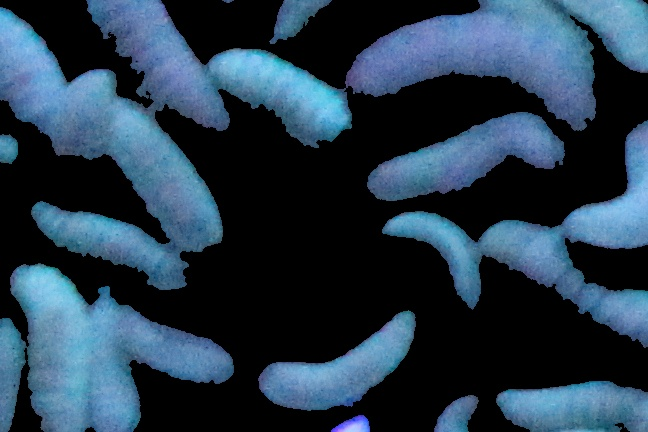dog: (568, 118, 648, 251), (384, 211, 485, 306), (116, 306, 239, 384)
larvae: (337, 20, 597, 130), (82, 93, 223, 255), (254, 294, 417, 413), (75, 1, 229, 126), (362, 126, 586, 208), (211, 42, 362, 153), (34, 189, 182, 293), (6, 259, 93, 427), (1, 1, 65, 138), (89, 287, 145, 427)
